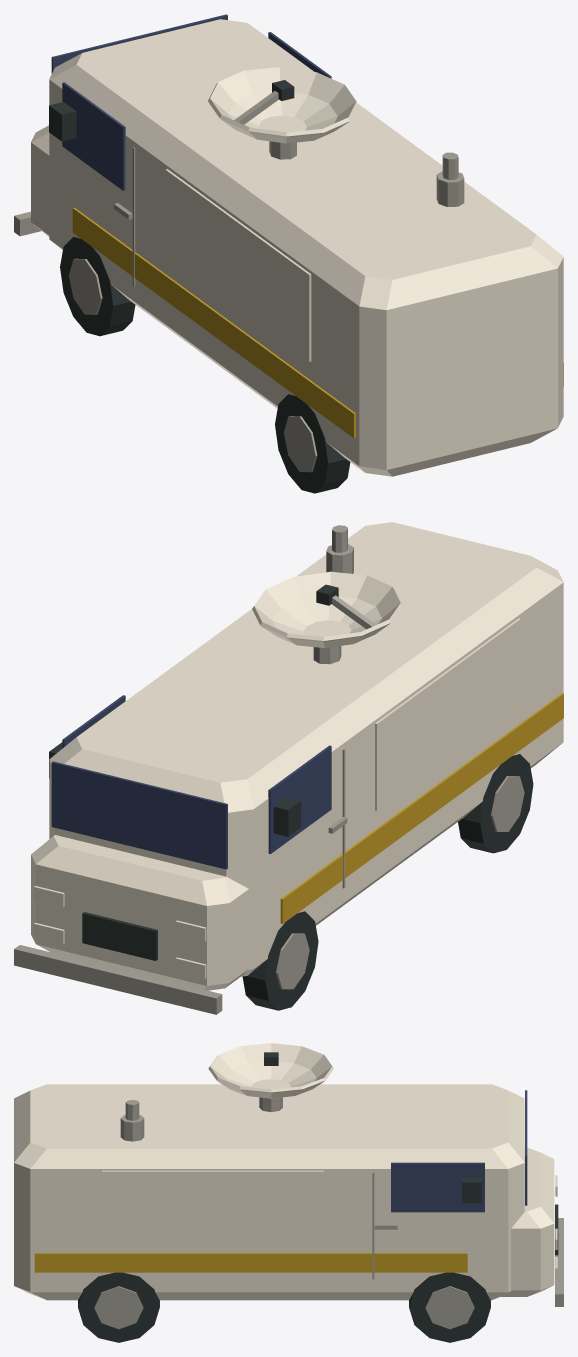
Rendered from R06_Broadcast_Van.fbx.
3 renders of one model, top to bottom at view 1: azimuth 30°, elevation 25°; view 2: azimuth 150°, elevation 25°; view 3: azimuth 270°, elevation 25°, orthographic. The views are drawn at different scales.
Visible parts, largest first — view 1: Body, Dish, Wheel_FL, Wheel_RL, Mast; view 2: Body, Dish, Wheel_FL, Wheel_RL, Mast; view 3: Body, Dish, Wheel_FR, Wheel_RR, Mast.
Boxes of the visible parts, left/top/right/bottom form: Body: left=14, top=14, right=563, bottom=476; Dish: left=208, top=67, right=358, bottom=159; Wheel_FL: left=60, top=237, right=135, bottom=336; Wheel_RL: left=275, top=394, right=350, bottom=493; Mast: left=436, top=152, right=464, bottom=206; Body: left=14, top=522, right=563, bottom=1014; Dish: left=252, top=571, right=402, bottom=664; Wheel_FL: left=242, top=911, right=318, bottom=1010; Wheel_RL: left=458, top=754, right=533, bottom=853; Mast: left=326, top=525, right=353, bottom=573; Body: left=14, top=1084, right=563, bottom=1306; Dish: left=208, top=1043, right=333, bottom=1112; Wheel_FR: left=409, top=1272, right=490, bottom=1342; Wheel_RR: left=78, top=1272, right=159, bottom=1342; Mast: left=120, top=1100, right=144, bottom=1141.
Size of the model in its own units: 2.4 by 3 by 6.2.
